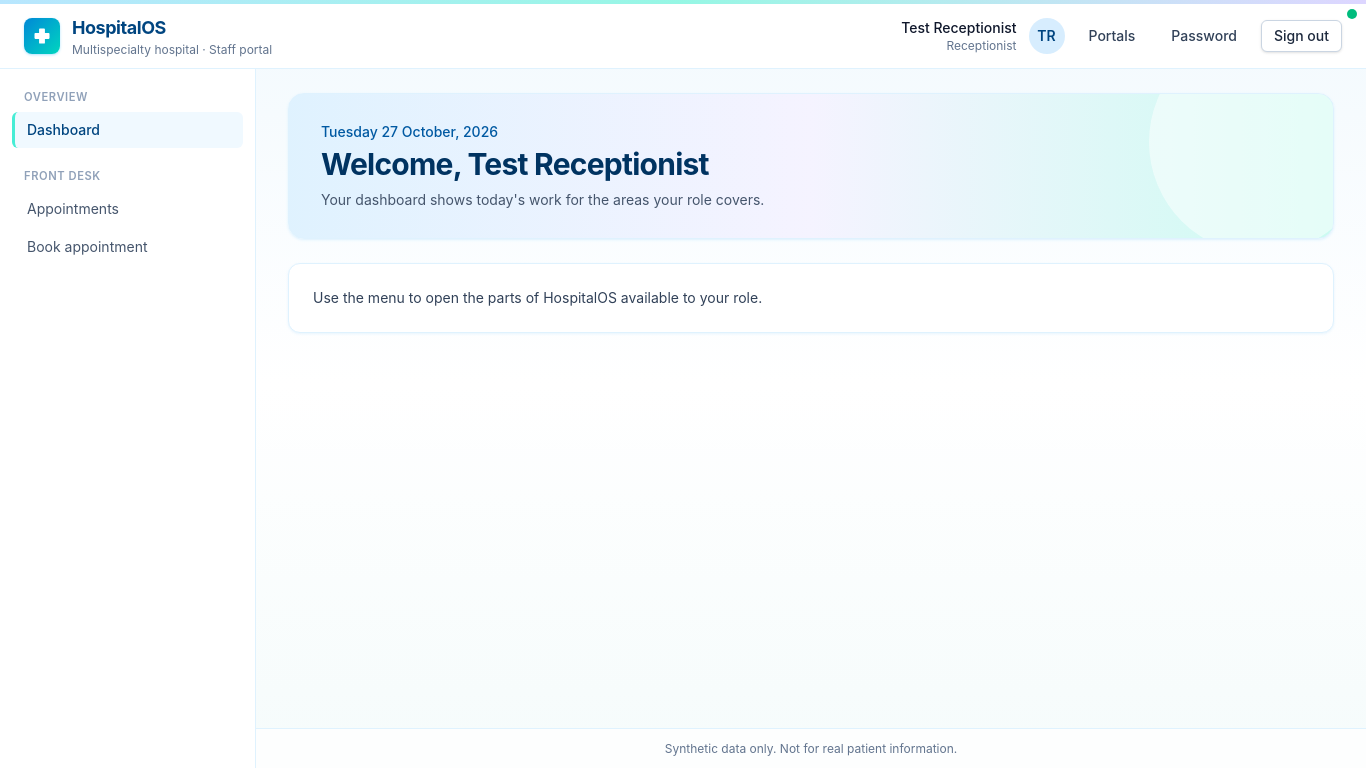
signed-in shell › signs out with the CSRF token, drops the session and returns to login
Click the button "Sign out". click: [1302, 36]
box: [1261,20,1342,52]
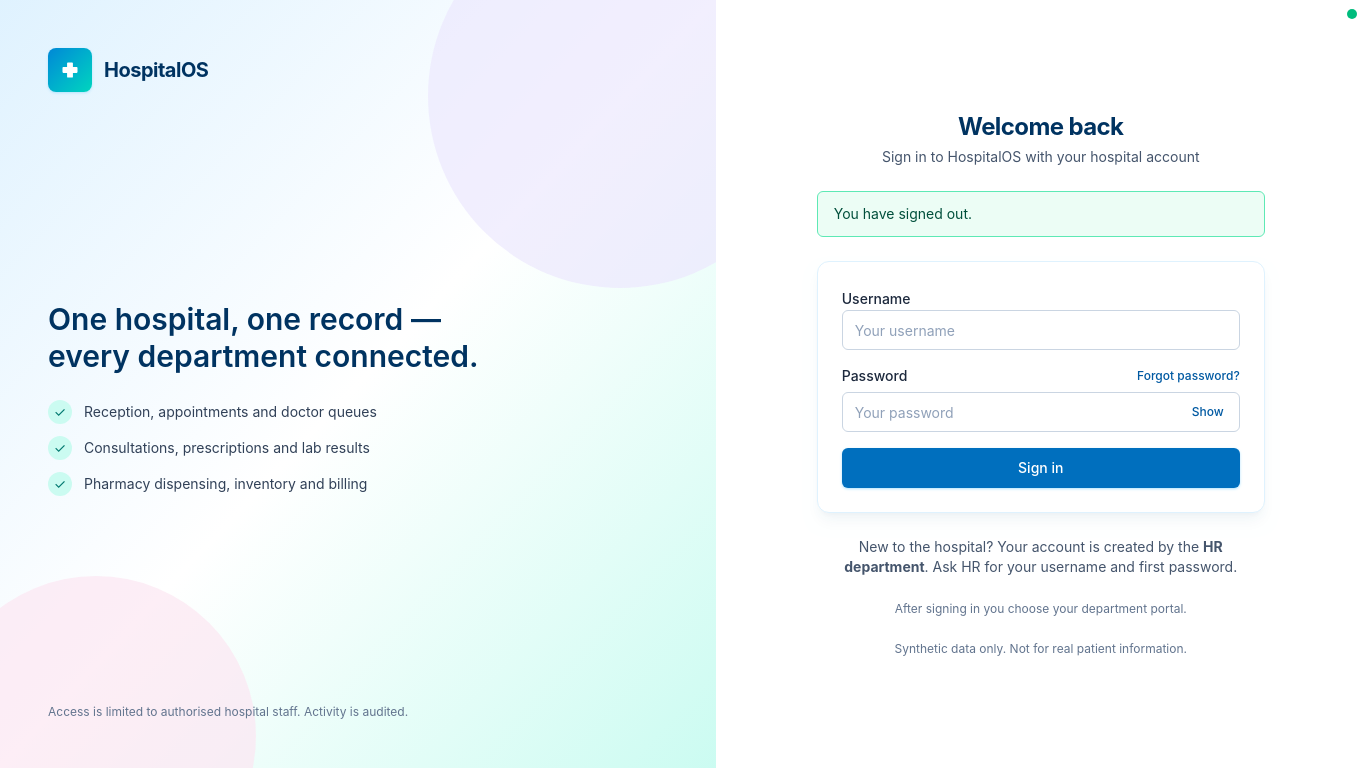
Check: the text "You have signed out." is shown, box [817,191,1265,237]
